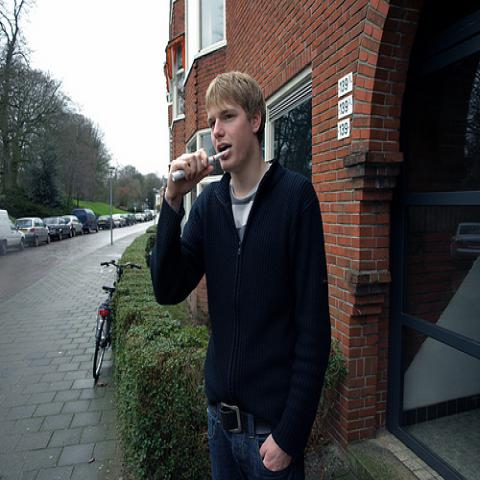car: (14, 218, 51, 246), (43, 216, 73, 244), (73, 209, 98, 233), (63, 216, 85, 235), (97, 214, 111, 229), (112, 214, 126, 227), (124, 214, 134, 226), (147, 212, 153, 222), (135, 214, 142, 222), (141, 213, 147, 222)
